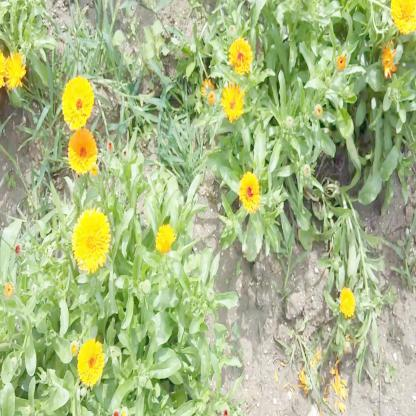marigold: (72, 209, 110, 272), (61, 78, 92, 128), (67, 127, 96, 171), (76, 340, 103, 386), (225, 36, 253, 78), (221, 80, 246, 121), (3, 49, 24, 90), (237, 172, 260, 208), (391, 2, 416, 34), (339, 287, 357, 319)
